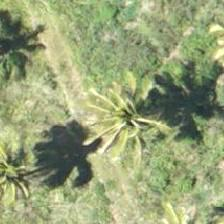Kelapa_Sawit: (85, 69, 175, 159), (0, 122, 57, 212)
